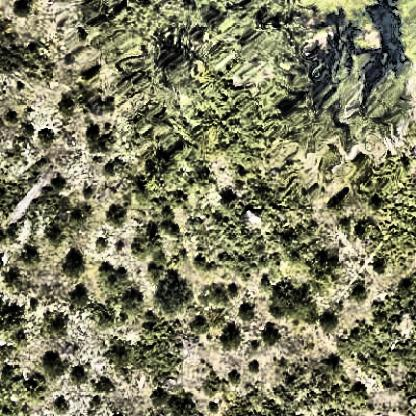tree-top: (285, 35, 416, 136), (190, 87, 269, 169), (270, 278, 323, 328), (149, 274, 197, 315), (41, 351, 66, 379), (62, 251, 85, 277), (104, 208, 130, 230)
